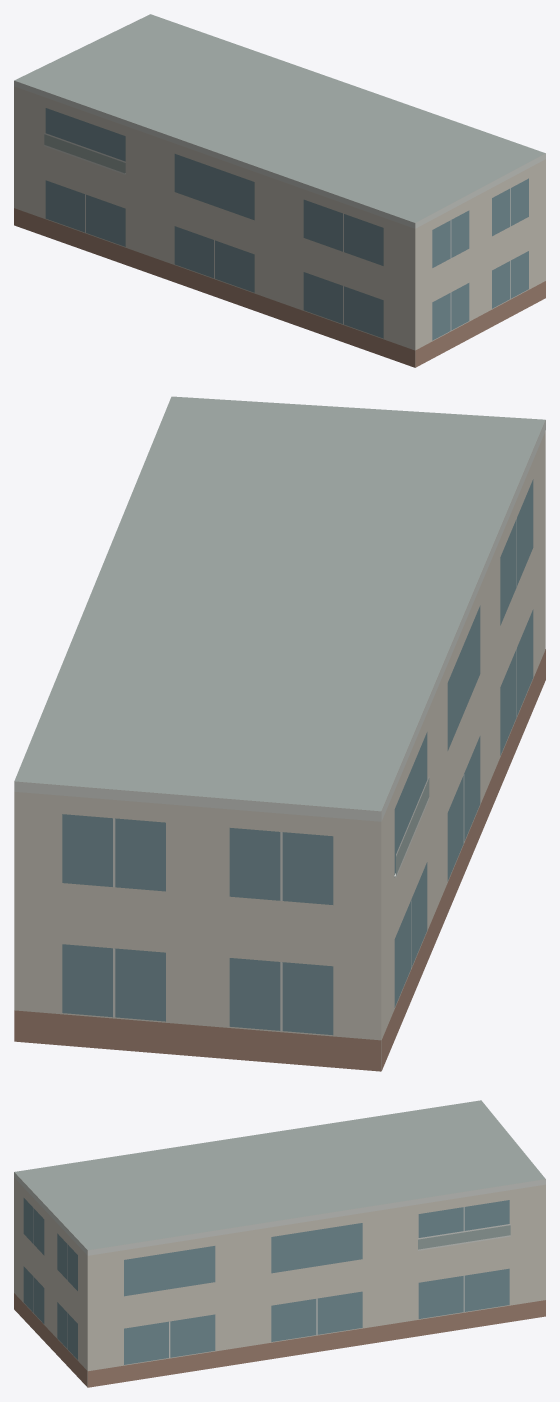
Rendered from survey-upis-32509348.glb.
3 views of the same model, one above another, from view 1: azimuth 30°, elevation 25°; view 2: azimuth 150°, elevation 25°; view 3: azimuth 270°, elevation 25° (orthographic). The views are drawn at different scales.
Visible parts, largest first — view 1: survey-upis-32509348.tmp; view 2: survey-upis-32509348.tmp; view 3: survey-upis-32509348.tmp.
Boxes of the visible parts, x1,y1,x2,y2 form: survey-upis-32509348.tmp: (14, 14, 545, 367); survey-upis-32509348.tmp: (14, 396, 545, 1071); survey-upis-32509348.tmp: (14, 1100, 545, 1387).
Bounding box in the file's own units: 14.31 × 6.1 × 21.41.
